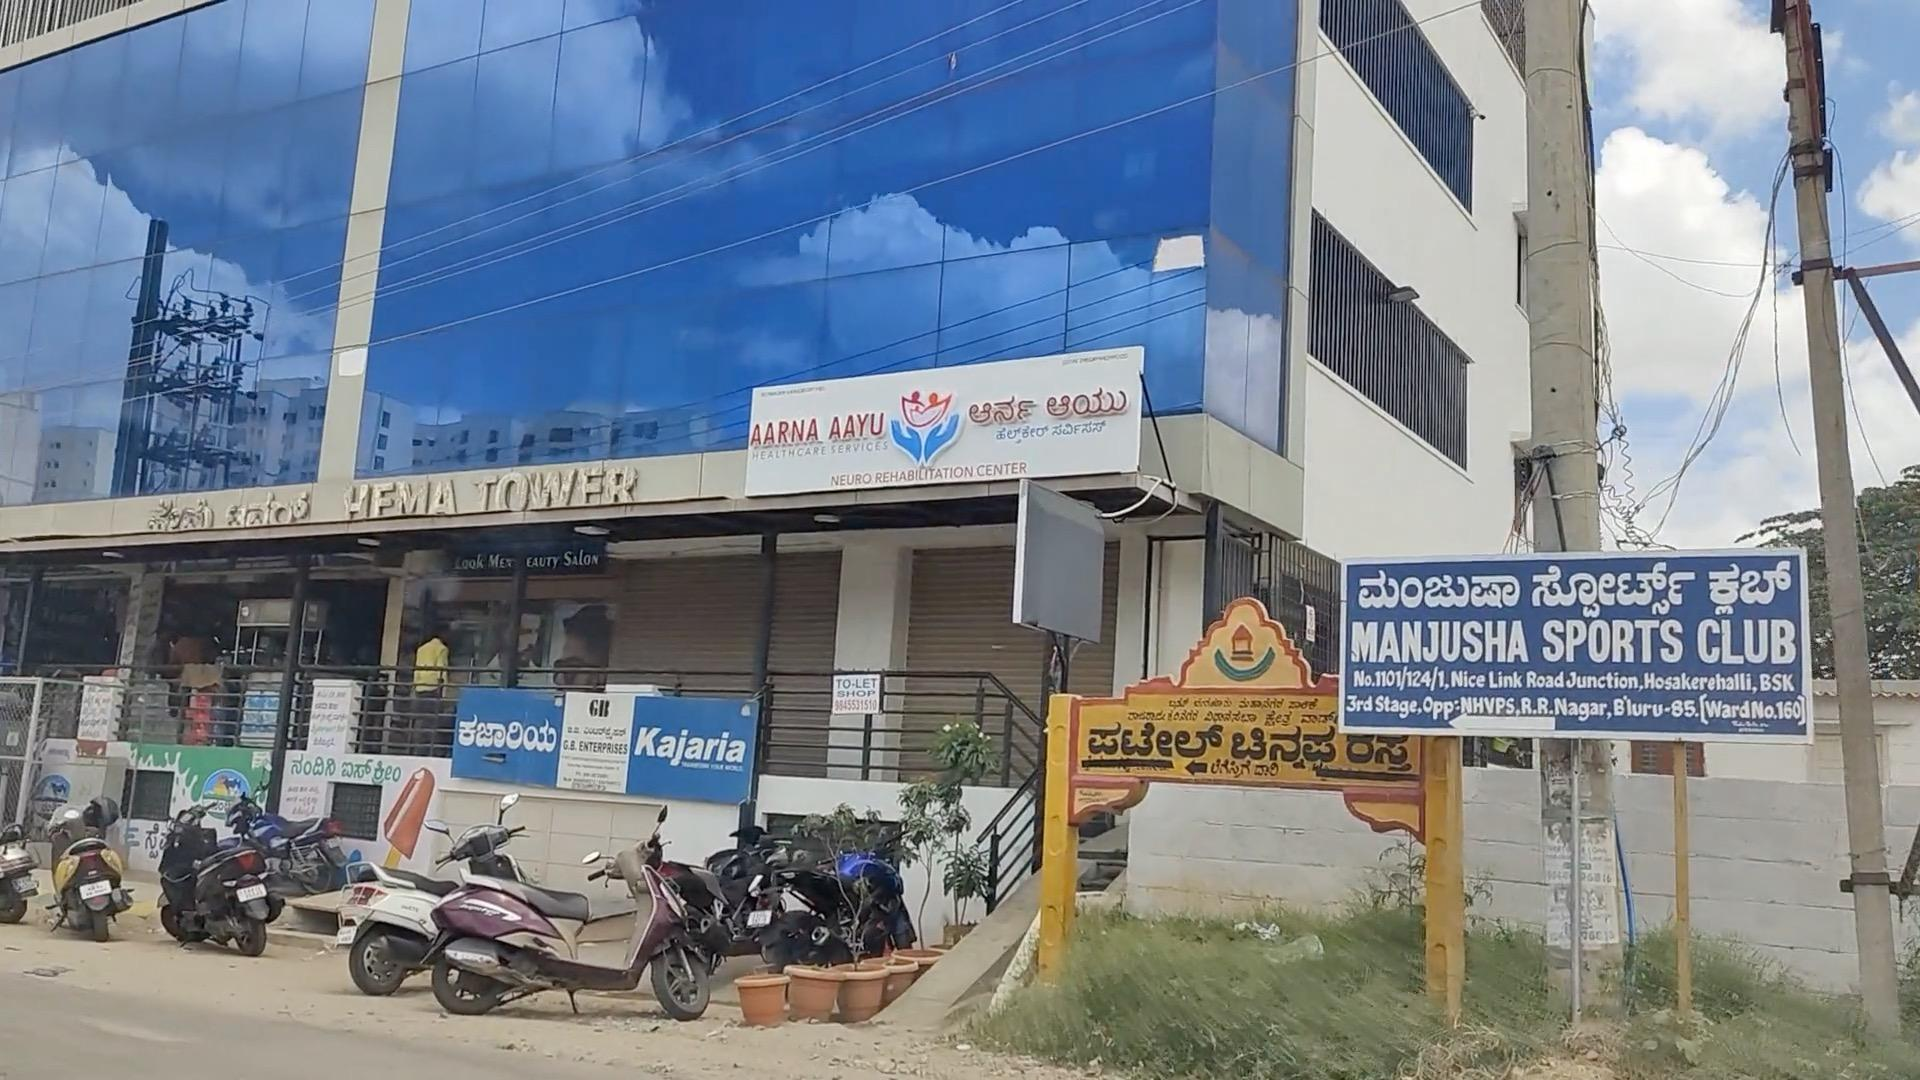LMV: (444, 855, 732, 1010), (148, 810, 262, 938), (53, 800, 117, 930), (348, 868, 415, 977)
RoadDamages: (75, 993, 260, 1080)
